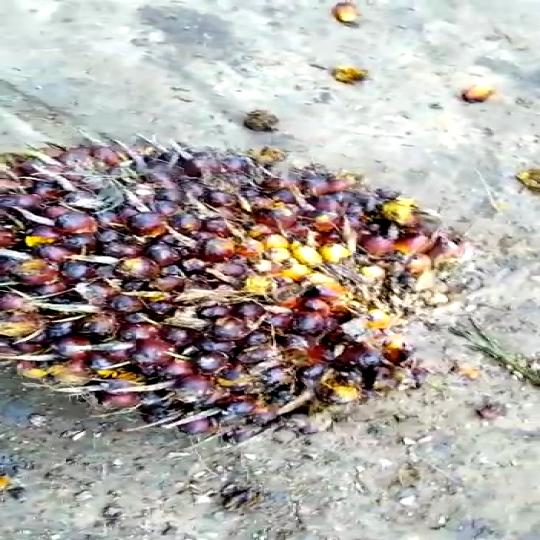kurang masak: (0, 125, 536, 484)
